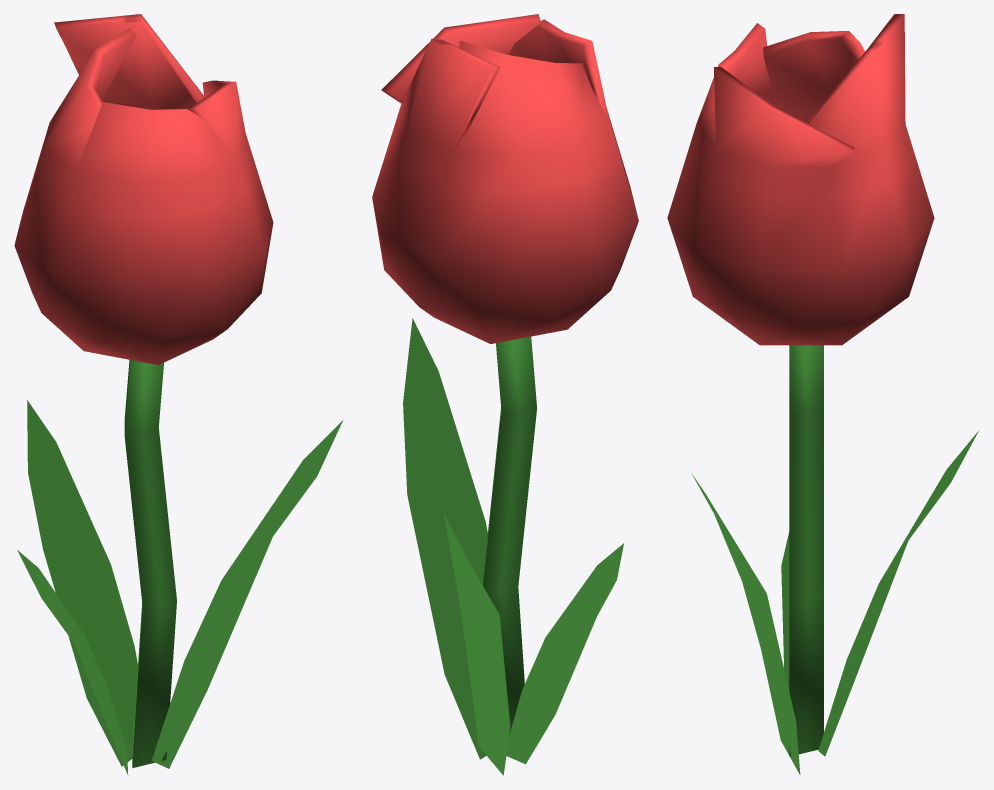
Rendered from Tulips.fbx.
3 views of the same model, side by side, from view 1: azimuth 30°, elevation 25°; view 2: azimuth 150°, elevation 25°; view 3: azimuth 270°, elevation 25° (orthographic). The views are drawn at different scales.
Parts seen in each view (by area): view 1: Tulipes; view 2: Tulipes; view 3: Tulipes.
Part boxes in pixels (x1,y1,x2,y2): Tulipes: [14, 14, 342, 775]; Tulipes: [372, 14, 638, 775]; Tulipes: [667, 14, 978, 774].
Size of the model in its own units: 38.9 by 101 by 39.19.
